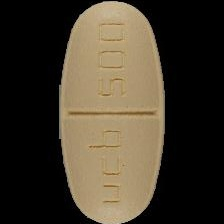16590-134: (0, 0, 224, 224)
